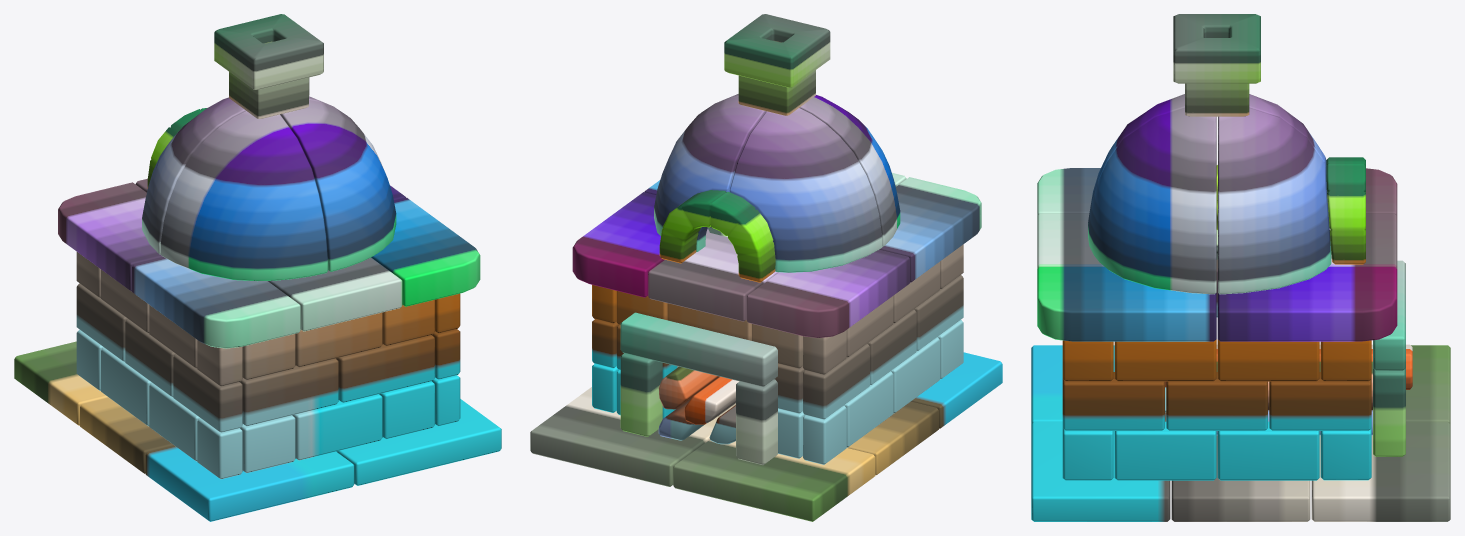
Rendered from level_162.fbx.
3 views of the same model, side by side, from view 1: azimuth 30°, elevation 25°; view 2: azimuth 150°, elevation 25°; view 3: azimuth 270°, elevation 25° (orthographic). The views are drawn at different scales.
Parts seen in each view (by area): view 1: Cube_L3, Cube_L3_1, Cube_L4_1, Cube_L5_3, Cube_L4_2, Cube_L3_3, Cube_L4_5, Cube_L1.001, Cube_L7_1, Cube_L2_21.001, Cube_L2_20.001, Cube_L2.001 (+24 smaller); view 2: Cube_L2.001, Cube_L5_2, Cube_L3_3, Cube_L4_4, Cube_L2_1.001, Cube_L1_3.001, Cube_L3_4, Cube_L4_1, Cube_L1_2.001, Cube_L7, Cube_L1.001, Cube_L3 (+28 smaller); view 3: Cube_L3_1, Cube_L2_1.001, Cube_L3_4, Cube_L4_2, Cube_L4_4, Cube_L4_5, Cube_L1.001, Cube_L5_1, Cube_L1_8, Cube_L1_9, Cube_L2_13.001, Cube_L2_14.001 (+19 smaller).
Part boxes in pixels (<box>): Cube_L3: <box>160,111,327,281</box>; Cube_L3_1: <box>280,100,396,271</box>; Cube_L4_1: <box>132,257,300,348</box>; Cube_L5_3: <box>145,445,354,521</box>; Cube_L4_2: <box>371,198,480,306</box>; Cube_L3_3: <box>58,182,163,291</box>; Cube_L4_5: <box>336,399,501,485</box>; Cube_L1.001: <box>214,14,323,89</box>; Cube_L7_1: <box>268,257,402,331</box>; Cube_L2_21.001: <box>240,358,338,426</box>; Cube_L2_20.001: <box>336,335,434,402</box>; Cube_L2.001: <box>142,97,245,254</box>; Cube_L2.001: <box>729,108,882,272</box>; Cube_L5_2: <box>673,440,875,521</box>; Cube_L3_3: <box>746,249,909,337</box>; Cube_L4_4: <box>530,387,719,486</box>; Cube_L2_1.001: <box>654,97,766,251</box>; Cube_L1_3.001: <box>620,312,777,386</box>; Cube_L3_4: <box>572,192,707,297</box>; Cube_L4_1: <box>879,177,981,282</box>; Cube_L1_2.001: <box>659,190,775,282</box>; Cube_L7: <box>648,228,778,321</box>; Cube_L1.001: <box>724,14,830,87</box>; Cube_L3: <box>799,95,900,246</box>; Cube_L3_1: <box>1088,108,1216,294</box>; Cube_L2_1.001: <box>1218,108,1331,294</box>; Cube_L3_4: <box>1217,267,1397,341</box>; Cube_L4_2: <box>1037,267,1216,341</box>; Cube_L4_4: <box>1311,422,1450,521</box>; Cube_L4_5: <box>1031,422,1170,521</box>; Cube_L1.001: <box>1173,14,1260,83</box>; Cube_L5_1: <box>1171,435,1310,521</box>; Cube_L1_8: <box>1269,372,1371,430</box>; Cube_L1_9: <box>1062,372,1164,430</box>; Cube_L2_13.001: <box>1217,421,1319,480</box>; Cube_L2_14.001: <box>1114,421,1216,480</box>.
Size of the model in its own units: 9.8 by 12.38 by 11.34.
